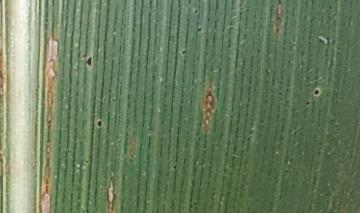tarspot: (86, 57, 92, 67), (96, 119, 102, 128), (313, 89, 320, 96), (172, 164, 177, 170), (181, 50, 187, 55), (305, 101, 310, 106), (197, 27, 201, 32)
